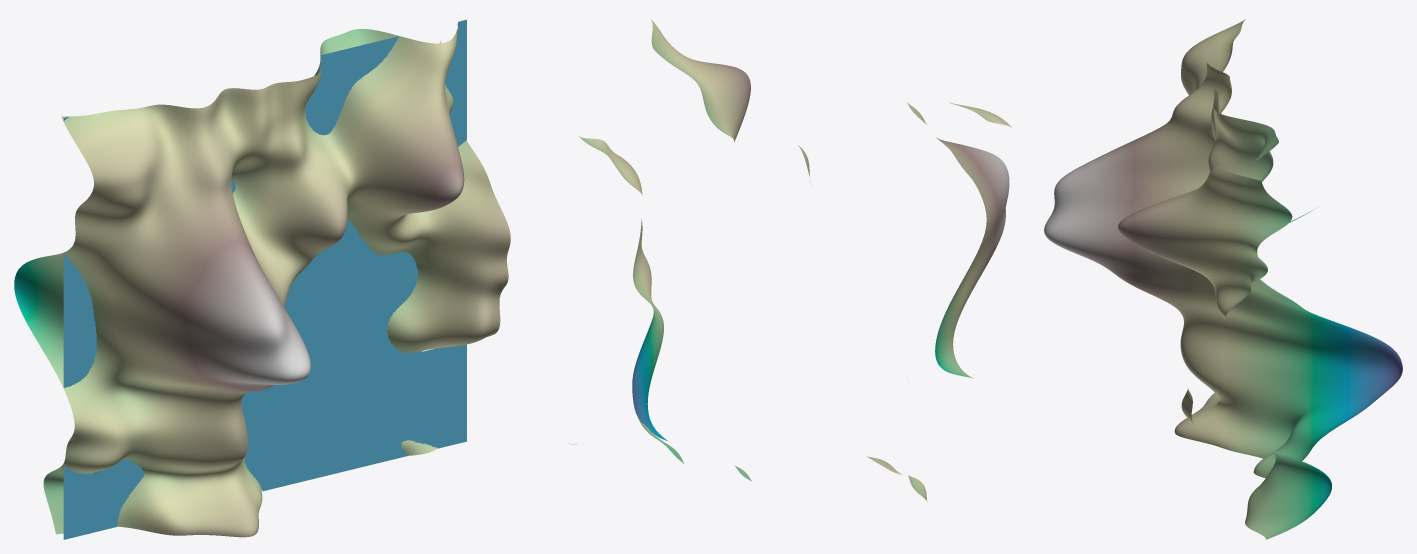
File: alpine_lake_terrain.glb
3 views of the same model, side by side, from view 1: azimuth 30°, elevation 25°; view 2: azimuth 150°, elevation 25°; view 3: azimuth 270°, elevation 25° (orthographic). The views are drawn at different scales.
Parts seen in each view (by area): view 1: paceval_height_field, separate_constant_height_water_geometry; view 2: paceval_height_field; view 3: paceval_height_field.
Part boxes in pixels (<box>): paceval_height_field: <box>14,15,510,537</box>; separate_constant_height_water_geometry: <box>63,19,466,539</box>; paceval_height_field: <box>566,19,1011,501</box>; paceval_height_field: <box>1044,19,1402,539</box>.
Size of the model in its own units: 2 by 2 by 1.81.
